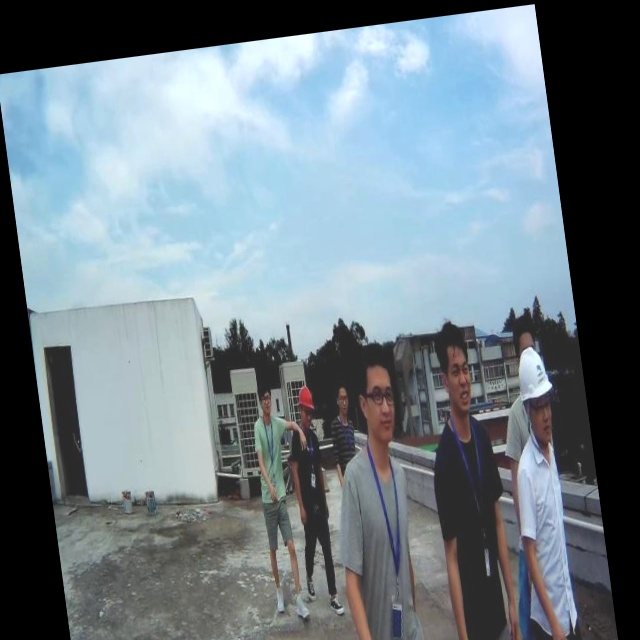Con_Casco: (514, 344, 559, 441)
Sin_Casco_Mascarrilla: (354, 341, 400, 444), (431, 319, 475, 411)
Sin_Chaleco: (426, 414, 521, 640), (331, 453, 429, 640)
